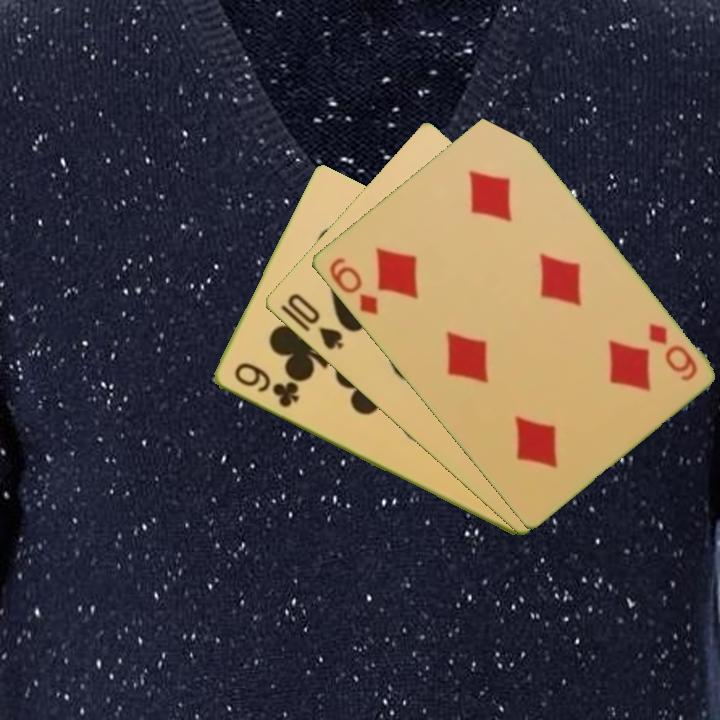10s: (283, 289, 347, 353)
6d: (325, 253, 381, 318), (644, 319, 700, 384)
9c: (230, 359, 302, 411)
